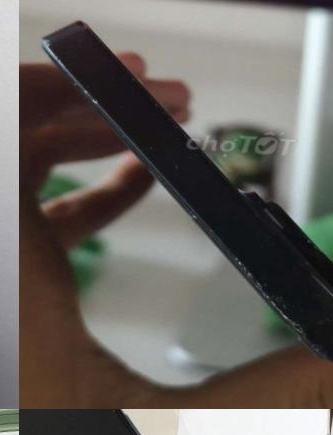scratch: (200, 247, 333, 373), (35, 24, 103, 106), (119, 66, 184, 122)
